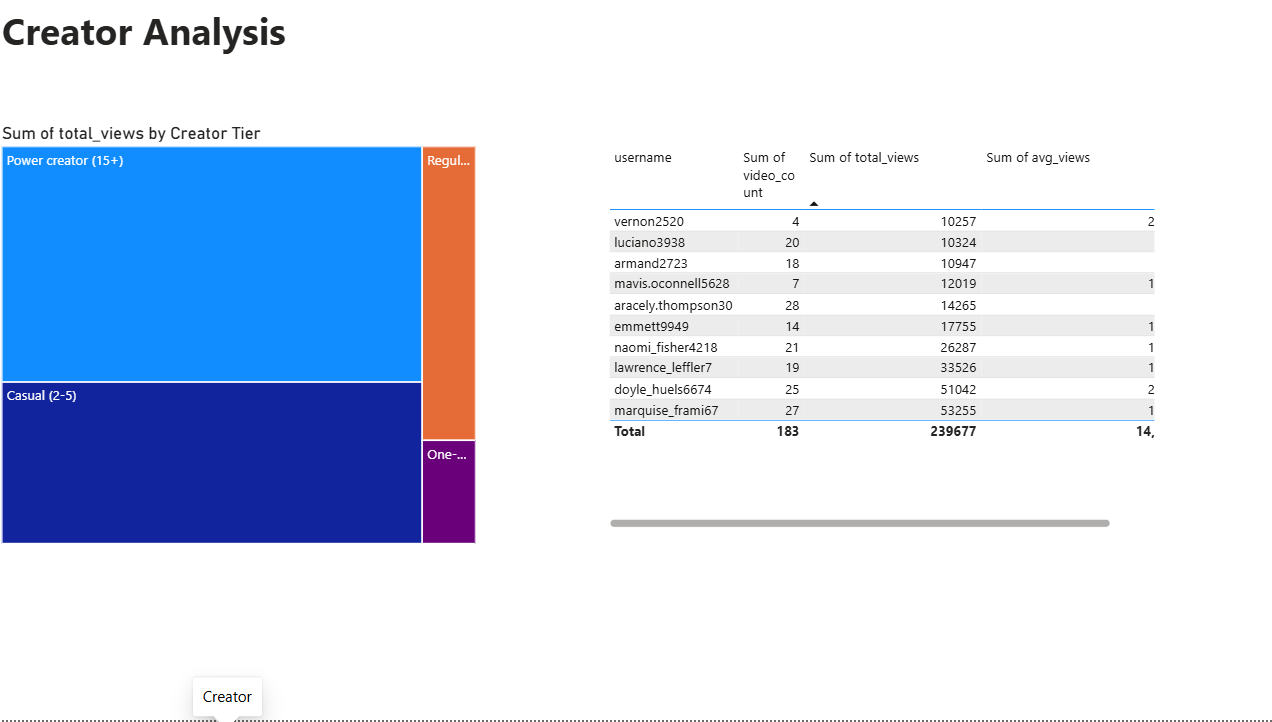

Layout of this report page (visuals, bound fields, positions):
{"tool":"powerbi","page":{"name":"Creator","canvas":[1280,720],"ordinal":1},"visuals":[{"type":"treemap","fields":{"Values":["Sum(activity_summary.total_views)"],"Group":["activity_summary.Creator Tier"]},"box":[0,122.5,483.8,426.2],"z":0},{"type":"tableEx","fields":{"Values":["activity_summary.username","Sum(activity_summary.video_count)","Sum(activity_summary.total_views)","Sum(activity_summary.avg_views)"]},"box":[606.2,141.2,556.2,391.2],"z":1000},{"type":"textbox","box":[0,0,463.8,65],"z":1001}]}

Visuals, with their boxes in screenshot pixels (x1, y1, x2, y2), scaled from the page's 1280x720 canvas onto the 1272x722 screenshot:
treemap - Sum(activity_summary.total_views) x activity_summary.Creator Tier: region(0, 123, 481, 550)
tableEx - activity_summary.username x Sum(activity_summary.video_count): region(602, 142, 1155, 534)
textbox: region(0, 0, 461, 65)
